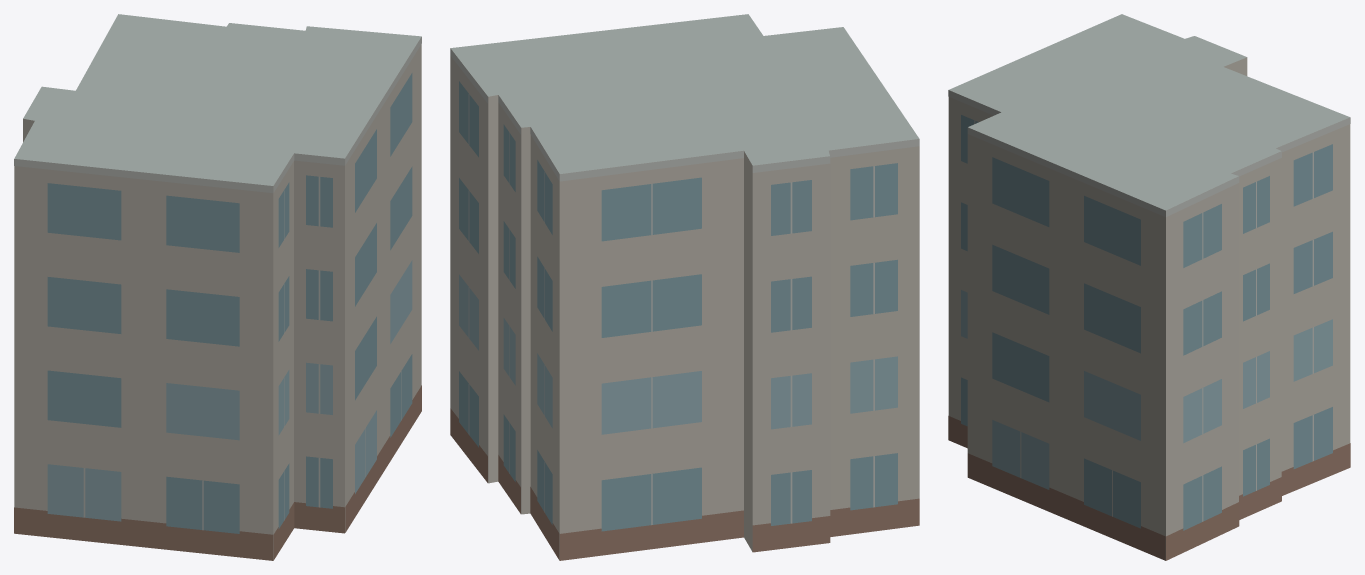
The model's file is survey-upis-32959949.glb.
The picture shows the model from 3 angles, left to right: view 1: azimuth 30°, elevation 25°; view 2: azimuth 150°, elevation 25°; view 3: azimuth 270°, elevation 25°; orthographic projection. The views are drawn at different scales.
Visible parts, largest first — view 1: survey-upis-32959949.tmp; view 2: survey-upis-32959949.tmp; view 3: survey-upis-32959949.tmp.
Boxes of the visible parts, x1,y1,x2,y2 form: survey-upis-32959949.tmp: [14, 14, 421, 560]; survey-upis-32959949.tmp: [450, 14, 919, 560]; survey-upis-32959949.tmp: [948, 14, 1350, 560].
Bounding box in the file's own units: 15.42 × 12.8 × 13.32.
